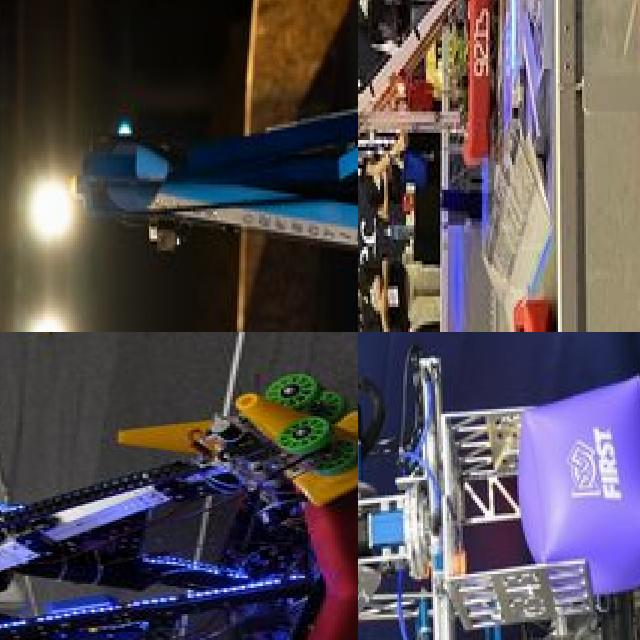FRC-Robots: (0, 332, 358, 640), (60, 0, 358, 332), (358, 332, 640, 640), (358, 0, 495, 262), (396, 274, 554, 332)
